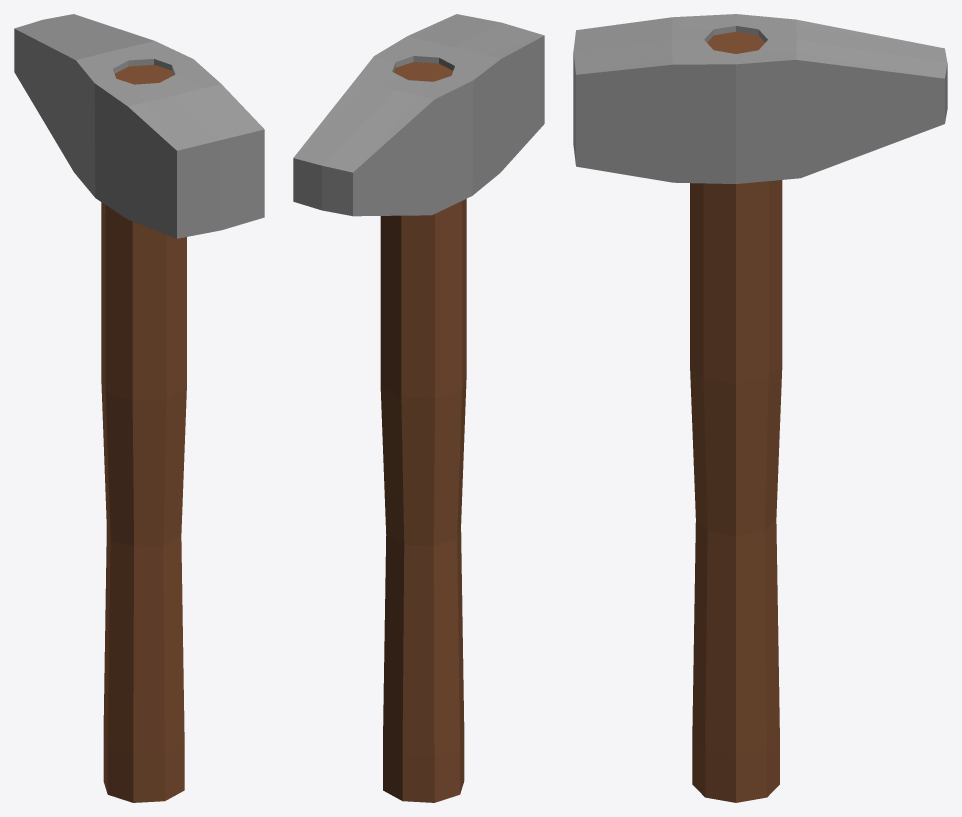
Rendered from hammer03.obj.
3 renders of one model, left to right at view 1: azimuth 30°, elevation 25°; view 2: azimuth 150°, elevation 25°; view 3: azimuth 270°, elevation 25°, orthographic. The views are drawn at different scales.
Parts seen in each view (by area): view 1: Cylinder; view 2: Cylinder; view 3: Cylinder.
Part boxes in pixels (x1,y1,x2,y2): Cylinder: (14,14,264,802); Cylinder: (293,14,544,802); Cylinder: (573,14,947,802).
Size of the model in its own units: 0.0352 by 0.2432 by 0.1106.
Materials: 1 (1 with a texture image).
